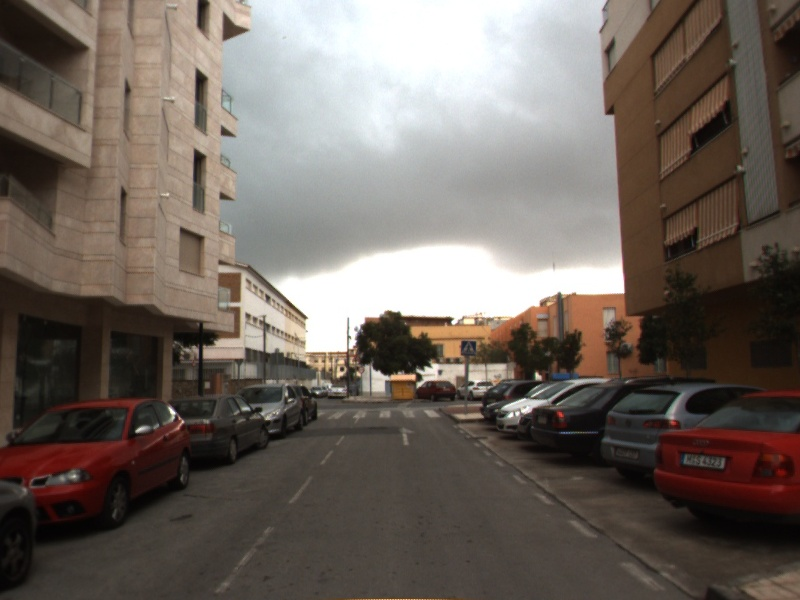STRAIGHT: (395, 424, 417, 447)
